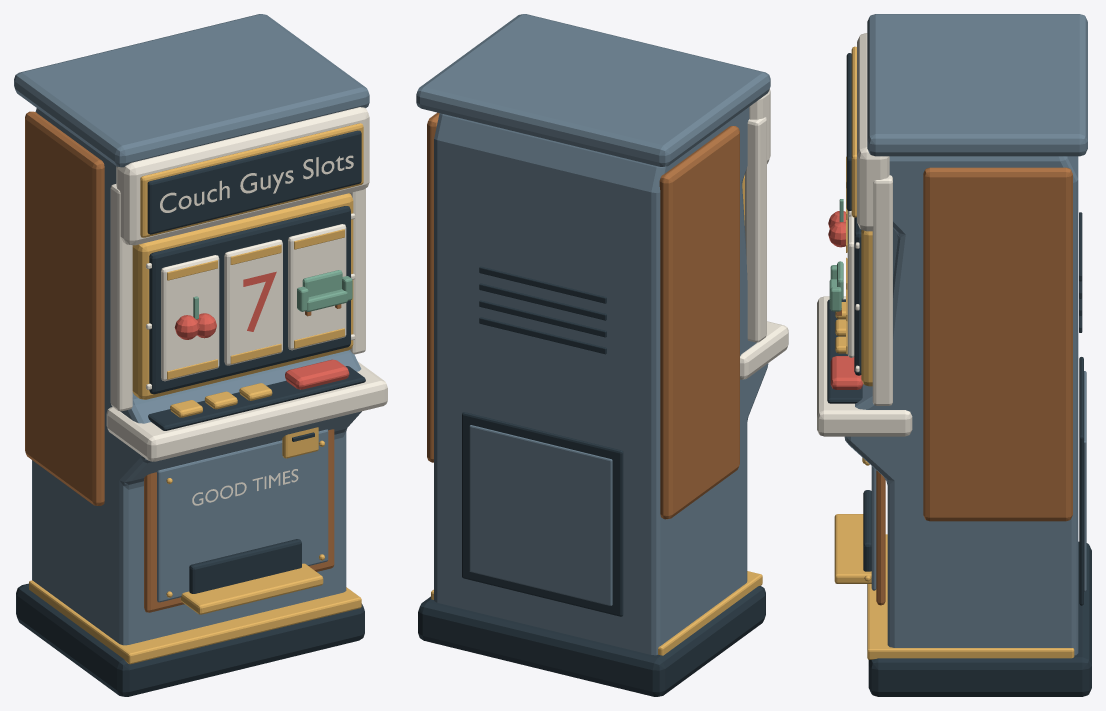
Rendered from CouchGuys_Slots.fbx.
3 views of the same model, side by side, from view 1: azimuth 30°, elevation 25°; view 2: azimuth 150°, elevation 25°; view 3: azimuth 270°, elevation 25° (orthographic). The views are drawn at different scales.
Parts seen in each view (by area): view 1: CouchGuys_Slots_LOD0; view 2: CouchGuys_Slots_LOD0; view 3: CouchGuys_Slots_LOD0.
Part boxes in pixels (x1=…): CouchGuys_Slots_LOD0: x1=14, y1=14, x2=387, y2=696; CouchGuys_Slots_LOD0: x1=416, y1=14, x2=788, y2=696; CouchGuys_Slots_LOD0: x1=817, y1=14, x2=1091, y2=696.
Size of what is drawn, in the model's own units: 110 by 229 by 101.
